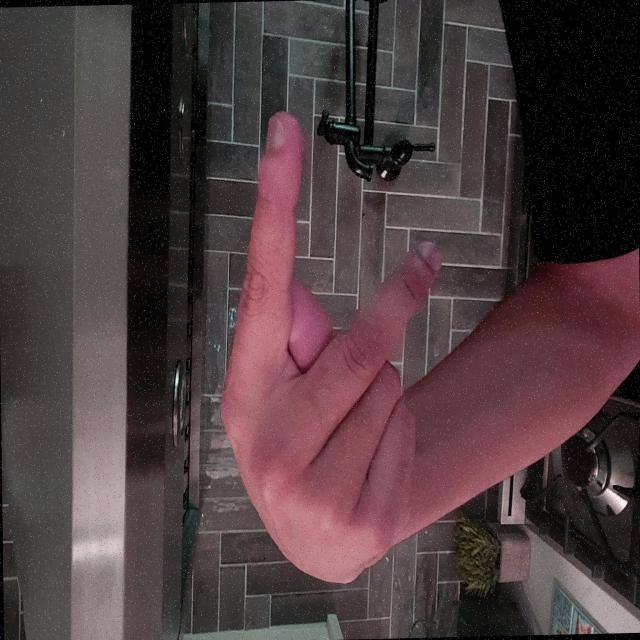P: (38, 284, 405, 606)
